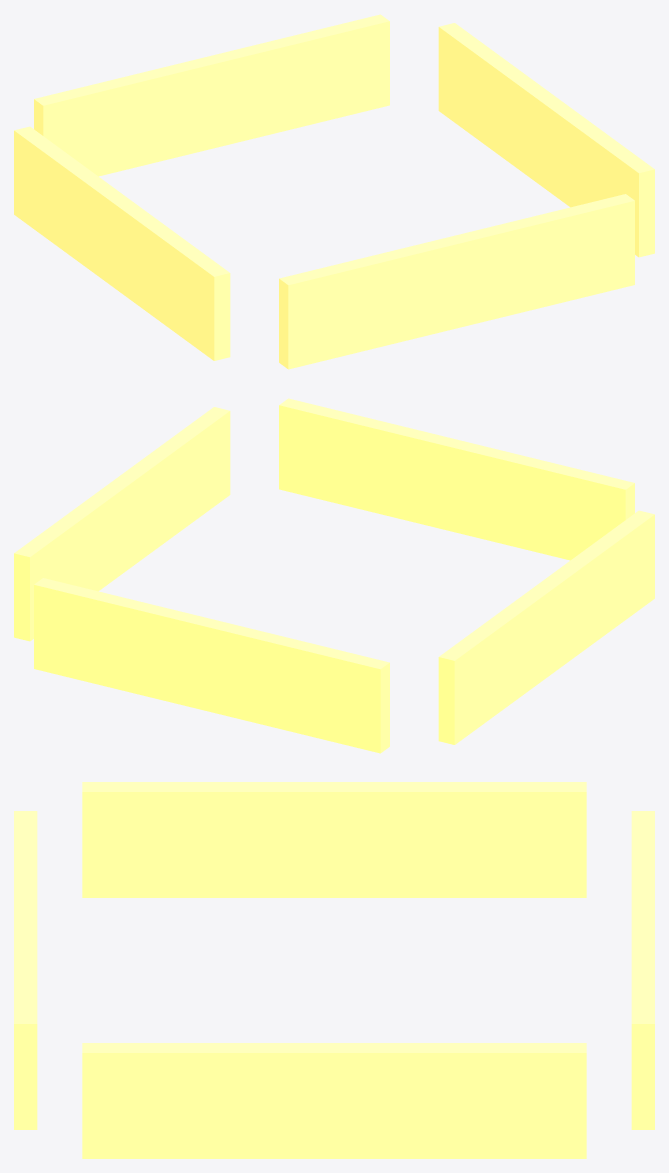
Rendered from PhoneBooth_Glow.glb.
3 views of the same model, one above another, from view 1: azimuth 30°, elevation 25°; view 2: azimuth 150°, elevation 25°; view 3: azimuth 270°, elevation 25° (orthographic). The views are drawn at different scales.
Visible parts, largest first — view 1: PhoneBooth_Glow; view 2: PhoneBooth_Glow; view 3: PhoneBooth_Glow.
Part boxes in pixels (<box>): PhoneBooth_Glow: <box>14,14,654,369</box>; PhoneBooth_Glow: <box>14,398,654,753</box>; PhoneBooth_Glow: <box>14,782,654,1158</box>.
Size of the model in its own units: 3.56 by 0.65 by 3.56.
